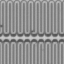dust: (0, 23, 3, 27)
